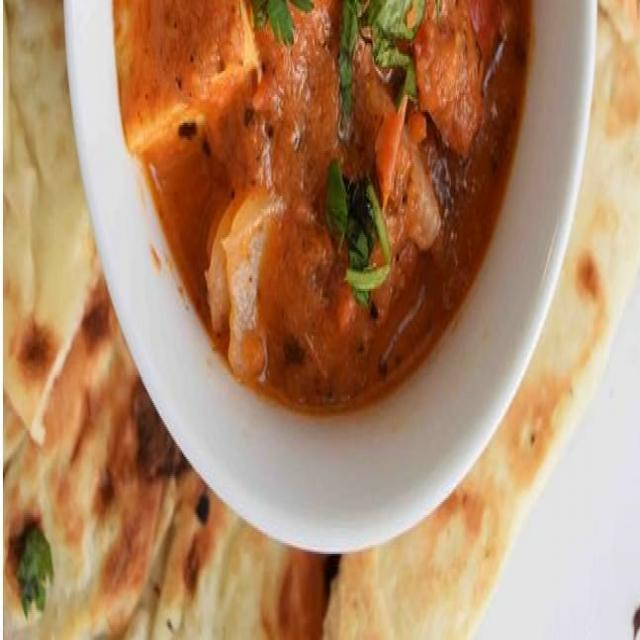ShahiPaneer: (109, 0, 534, 449)
